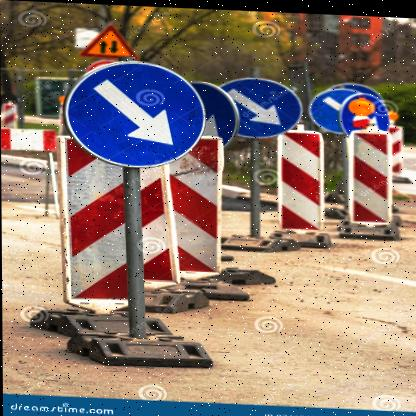Keep right: (67, 57, 206, 168), (217, 72, 297, 140)
